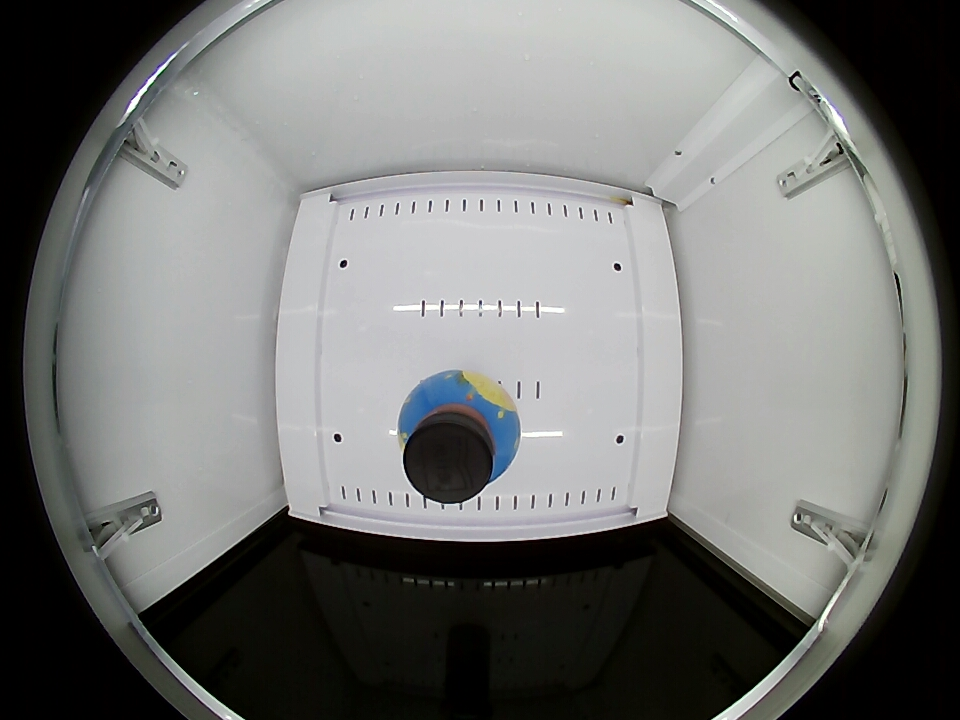guolicheng2: (397, 372, 518, 505)
